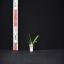leaf: (32, 36, 39, 45), (28, 33, 32, 45), (28, 38, 32, 45), (33, 41, 37, 45), (28, 42, 31, 45), (33, 43, 35, 45)
